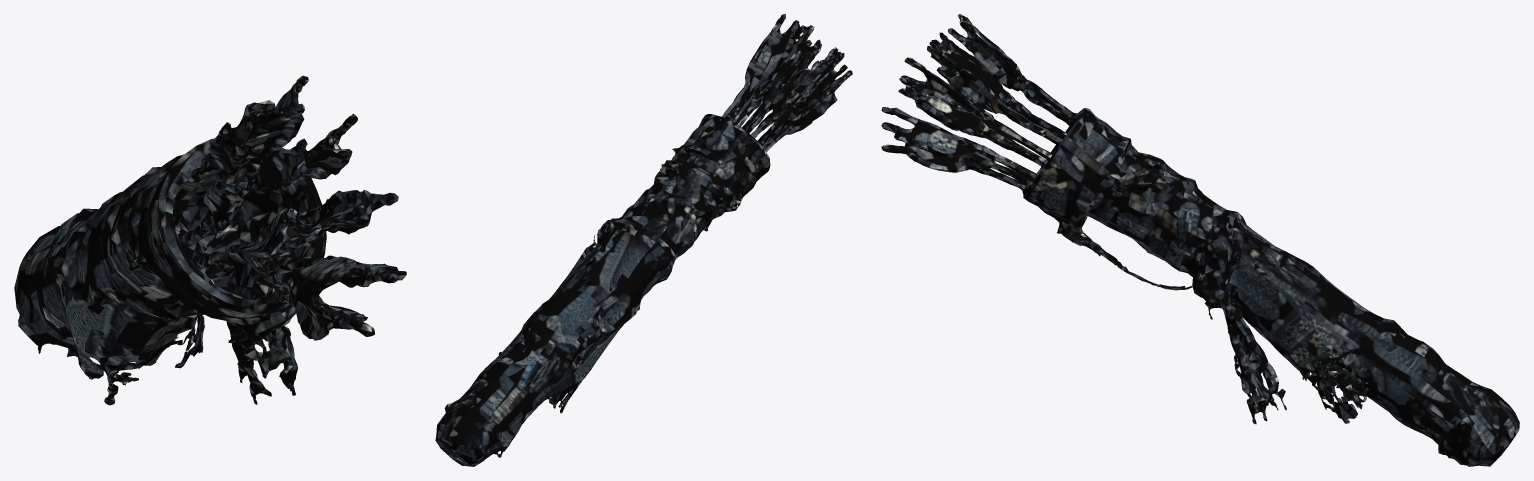
The model's file is Quiver.fbx.
3 views of the same model, side by side, from view 1: azimuth 30°, elevation 25°; view 2: azimuth 150°, elevation 25°; view 3: azimuth 270°, elevation 25° (orthographic). The views are drawn at different scales.
Parts seen in each view (by area): view 1: Quiver_Low; view 2: Quiver_Low; view 3: Quiver_Low.
Part boxes in pixels (x1=…): Quiver_Low: x1=14, y1=75, x2=406, y2=405; Quiver_Low: x1=435, y1=14, x2=852, y2=466; Quiver_Low: x1=881, y1=14, x2=1519, y2=466.
Size of the model in its own units: 20.3 by 34.03 by 51.49.
Materials: 1 (1 with a texture image).
